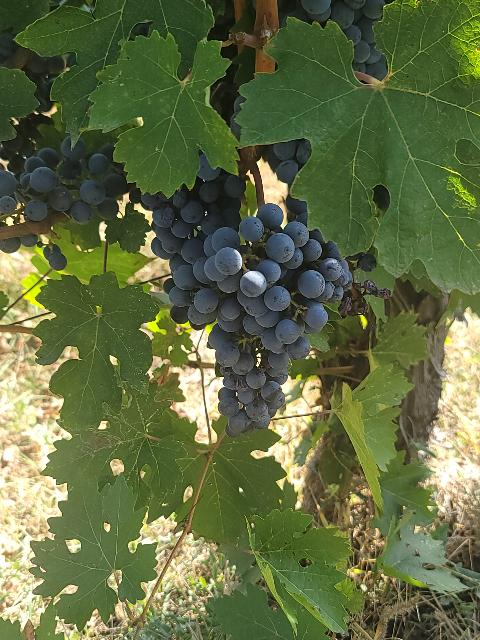grapes: (166, 204, 351, 438)
